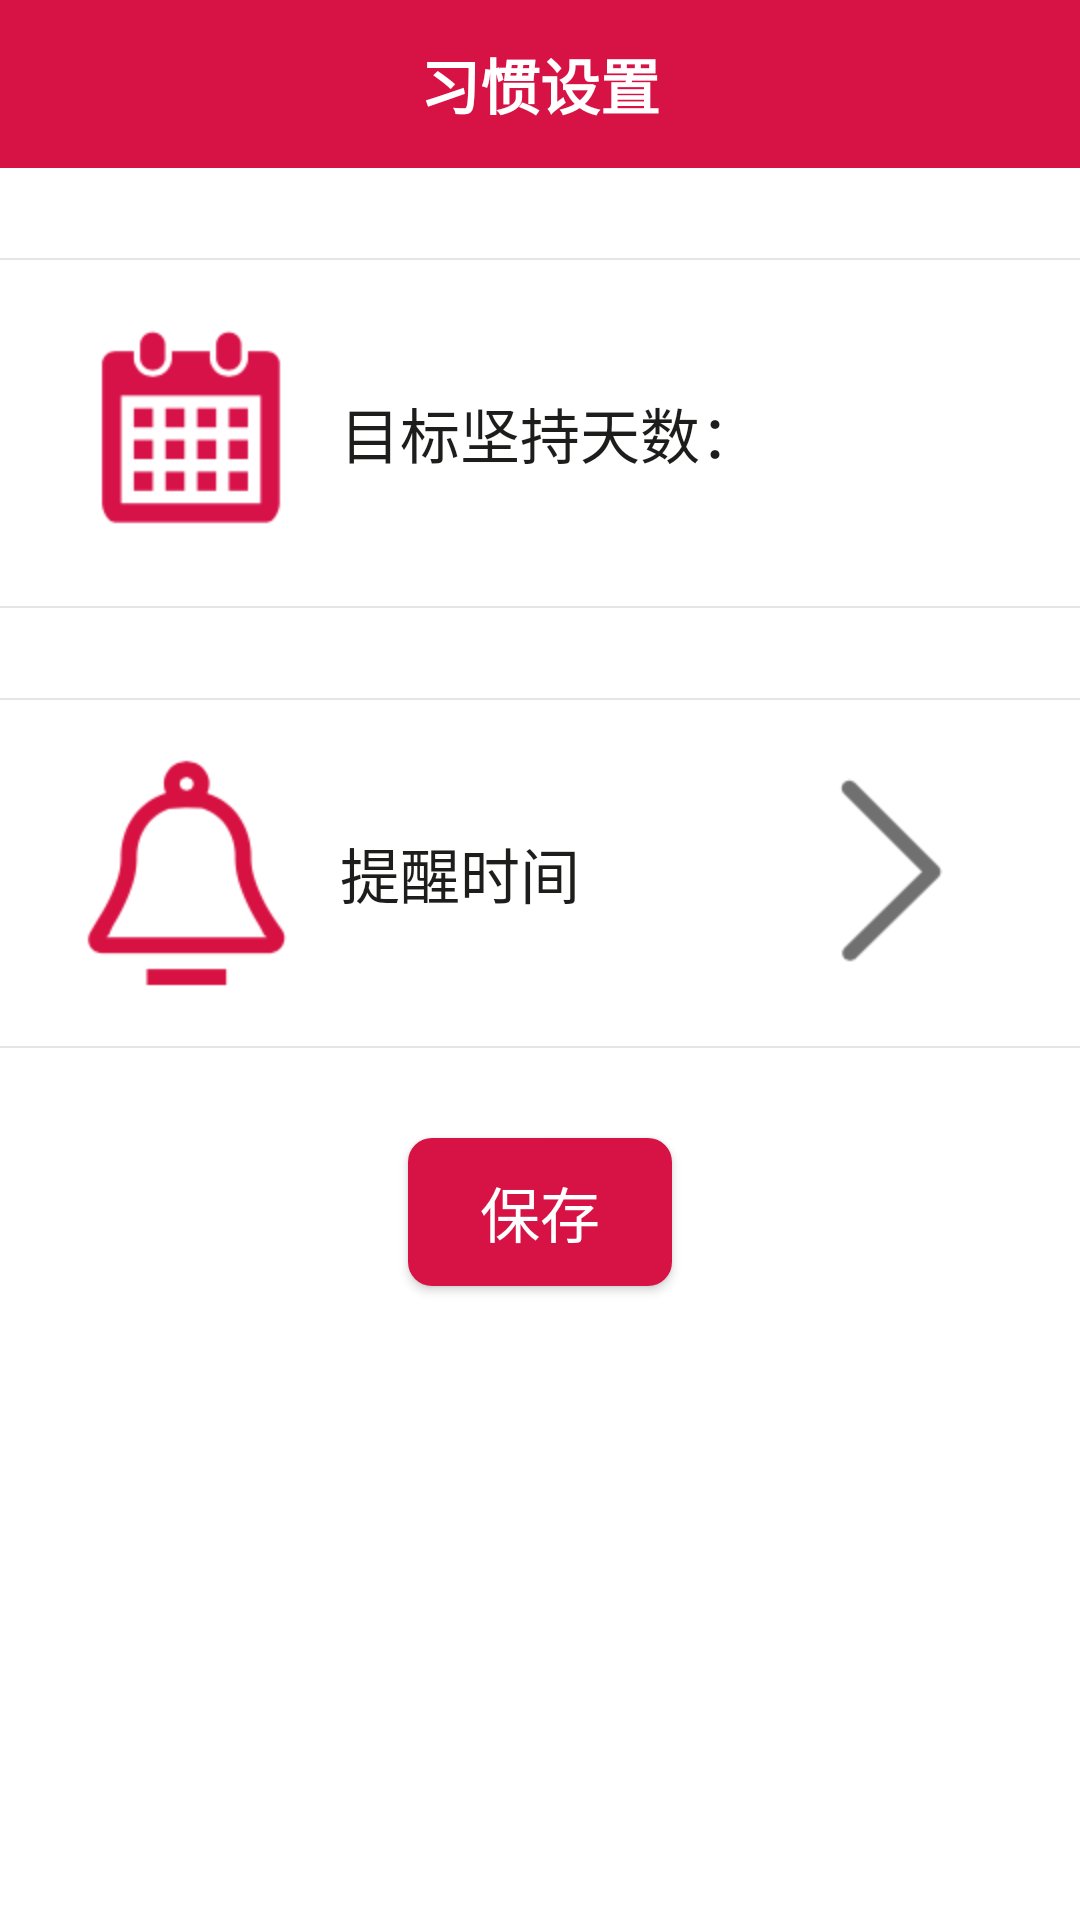

Screen size 1080*1920. Icon name, then its box in pixels as (x1, y1, x2, y2):
alarm: (87, 760, 286, 986)
enter: (841, 780, 942, 962)
